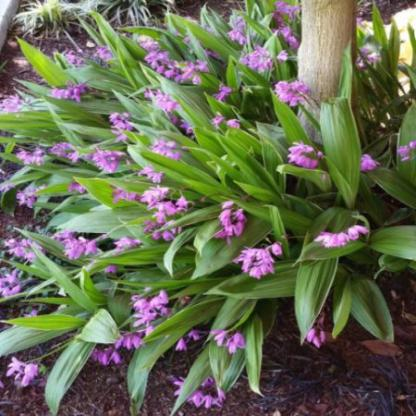ANGGREK: (10, 39, 388, 403)
